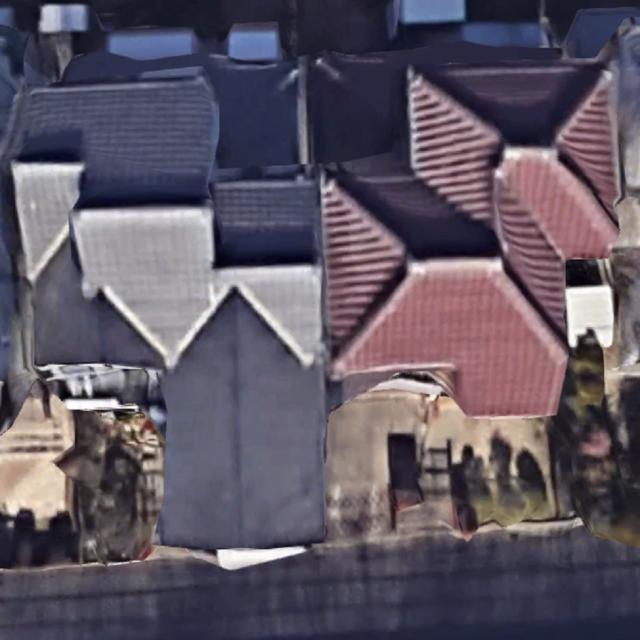Batiment: (2, 70, 326, 547), (310, 55, 620, 417)
